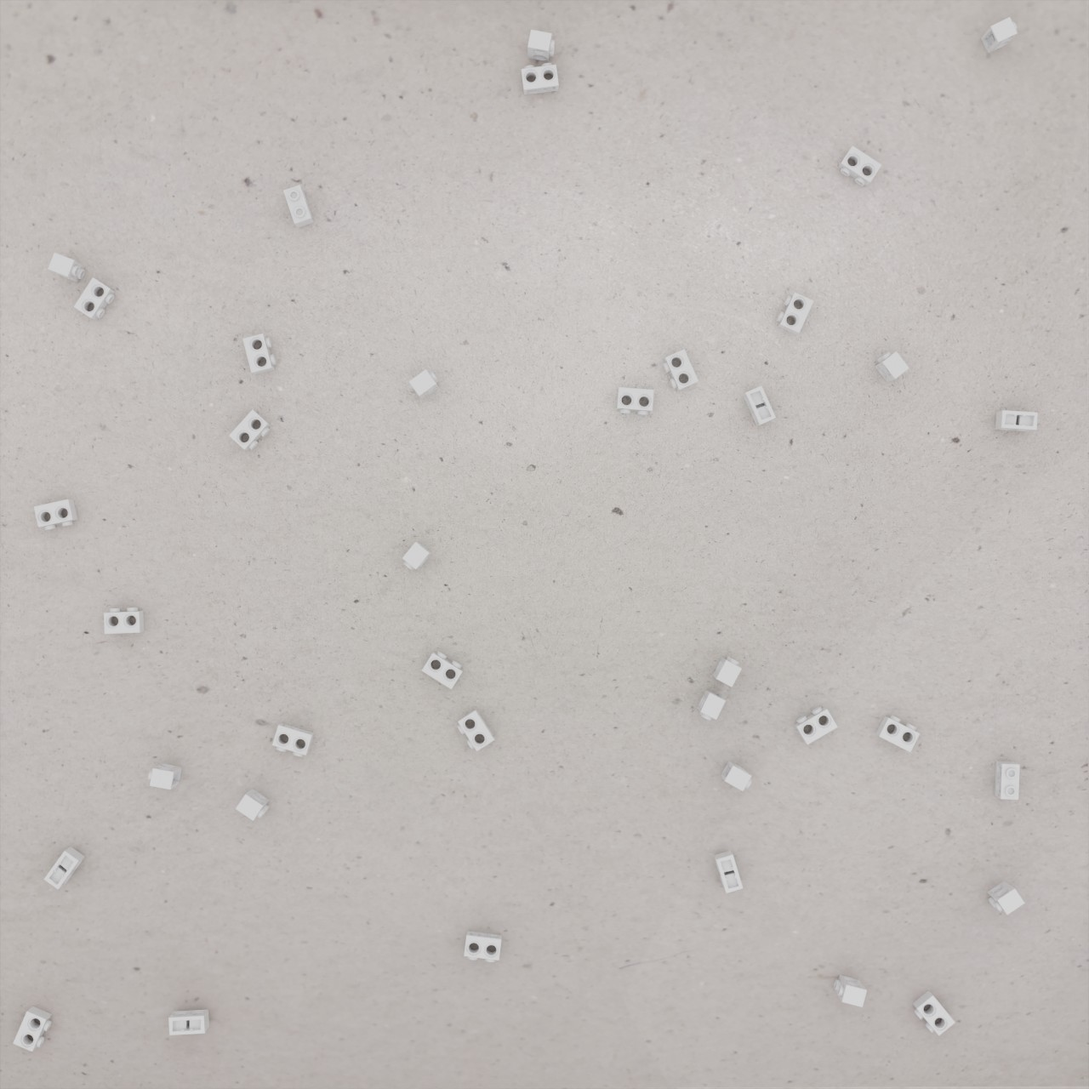lego: (912, 990, 955, 1036), (838, 145, 882, 187), (73, 277, 115, 321), (44, 846, 85, 890), (13, 1006, 52, 1052), (229, 409, 271, 451), (875, 715, 920, 753), (421, 651, 464, 690), (794, 707, 838, 745), (457, 708, 495, 751), (662, 349, 699, 392), (777, 292, 814, 335), (272, 723, 315, 757), (242, 333, 276, 375), (980, 17, 1018, 54), (743, 385, 776, 427), (34, 499, 78, 530), (283, 185, 314, 228), (987, 880, 1025, 915), (714, 850, 743, 894), (521, 63, 559, 95), (464, 931, 502, 962), (235, 788, 270, 821), (48, 252, 85, 283), (875, 351, 909, 383), (104, 607, 144, 634), (168, 1009, 209, 1035), (616, 387, 654, 415), (834, 975, 867, 1007), (720, 760, 752, 791), (995, 761, 1020, 800), (995, 410, 1038, 432), (409, 369, 439, 400), (712, 656, 742, 687), (697, 689, 726, 721), (148, 763, 182, 790), (528, 29, 555, 62), (402, 542, 432, 570)
